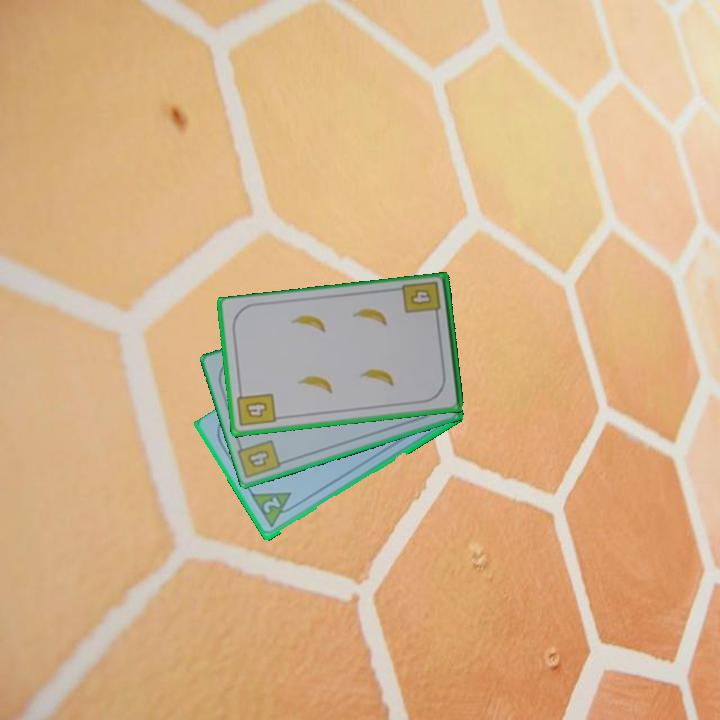2p: (259, 494, 283, 517)
4b: (399, 278, 444, 323), (234, 387, 279, 429), (243, 447, 272, 471)
